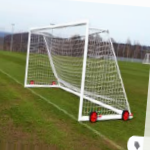goals: (26, 20, 133, 123)
